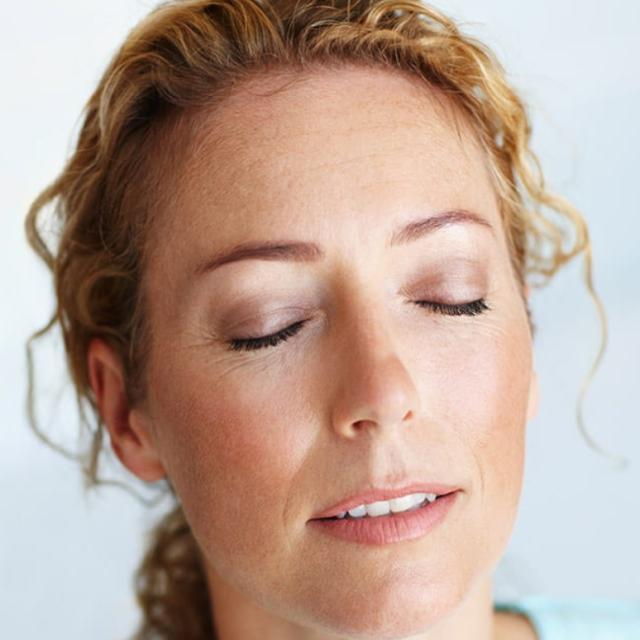close: (180, 232, 340, 366), (379, 203, 507, 329)
